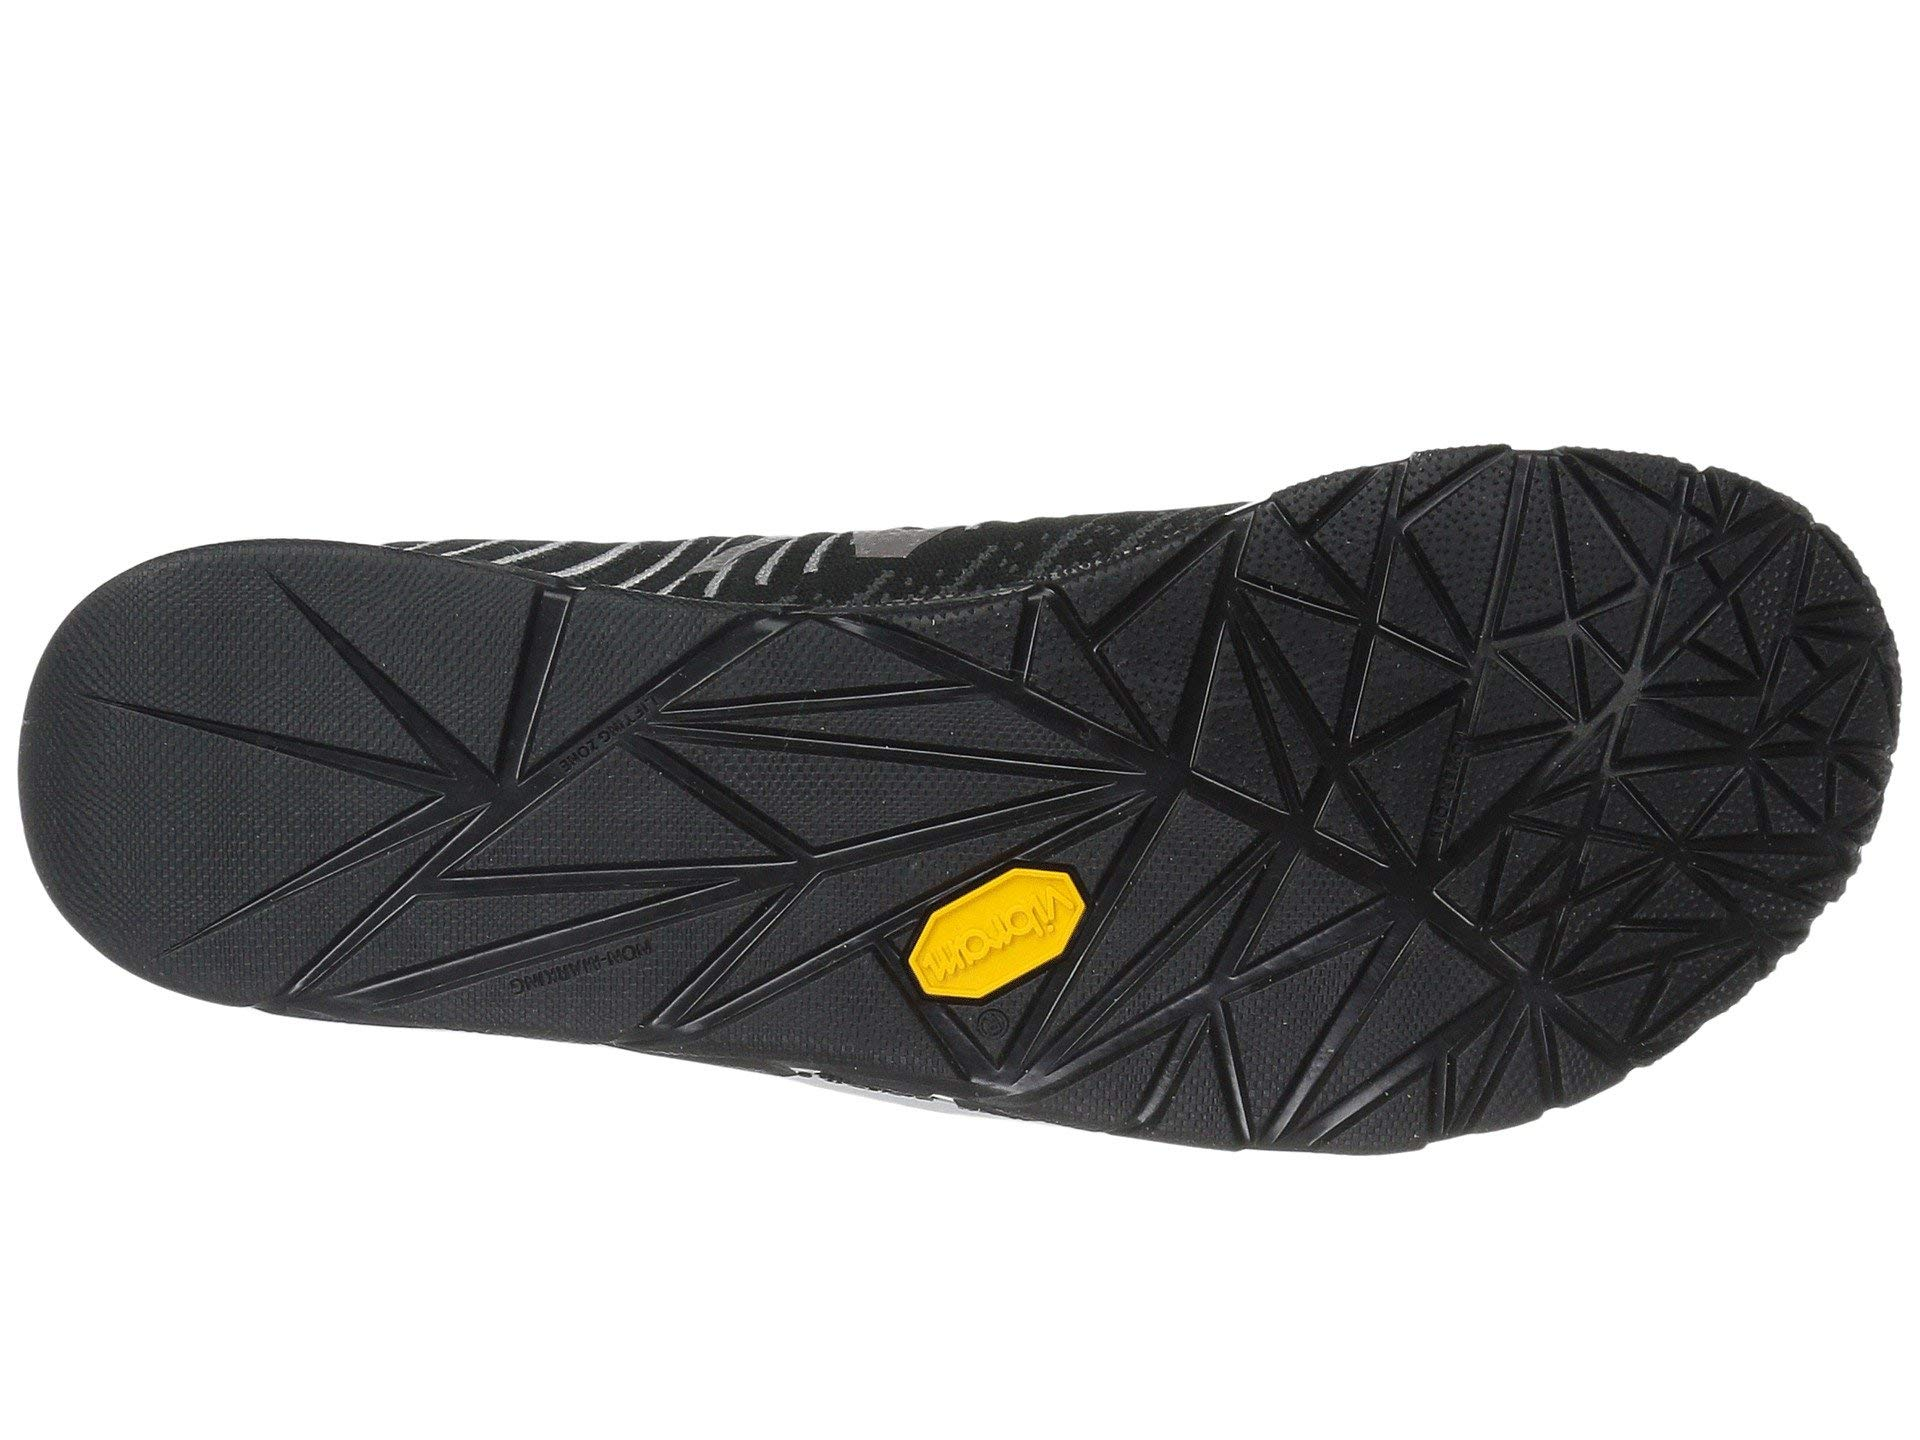line: (122, 549, 760, 973), (1290, 492, 1696, 988)
quad: (1290, 492, 1696, 988)
text: (122, 549, 760, 973)
triangle: (122, 549, 760, 973), (1290, 492, 1696, 988)
